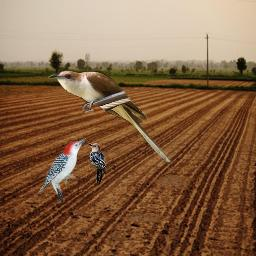Cuckoo: (48, 69, 173, 165)
Woodpecker: (36, 138, 88, 206), (87, 143, 106, 184)
